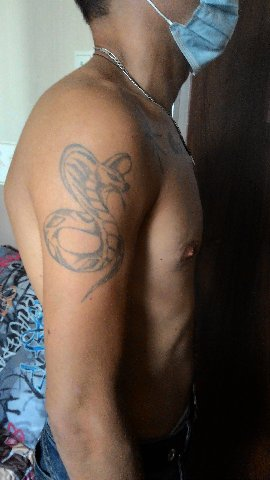tatu7_zmeya: (34, 139, 139, 301)
